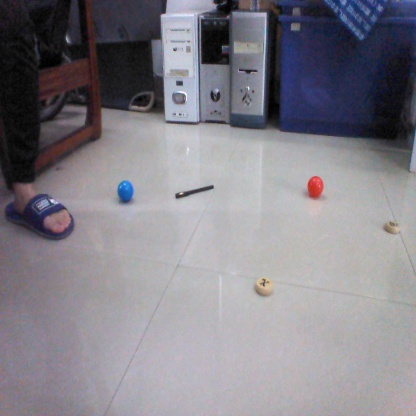ball: (307, 175, 327, 198), (117, 179, 136, 201)
chess: (249, 276, 275, 293), (384, 218, 403, 231)
pen: (177, 181, 215, 197)
